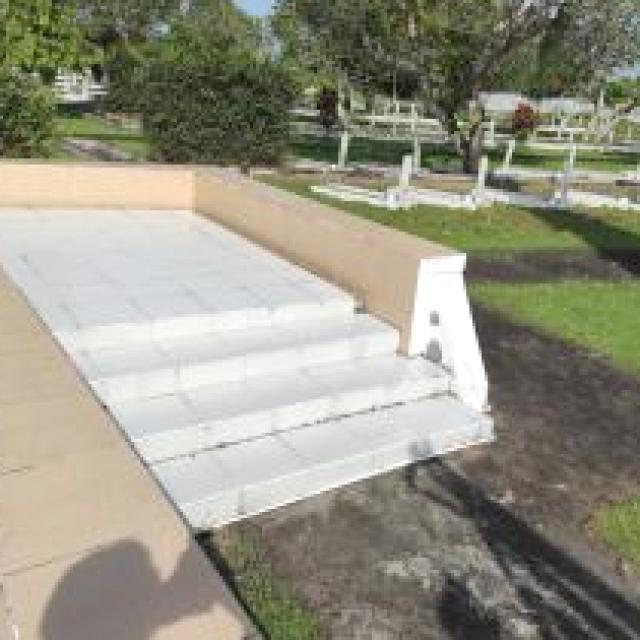upstair: (50, 312, 516, 525)
